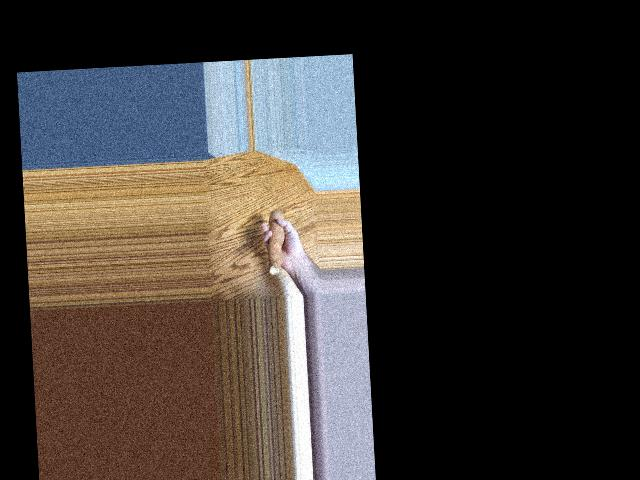sweet_potato: (263, 206, 283, 278)
